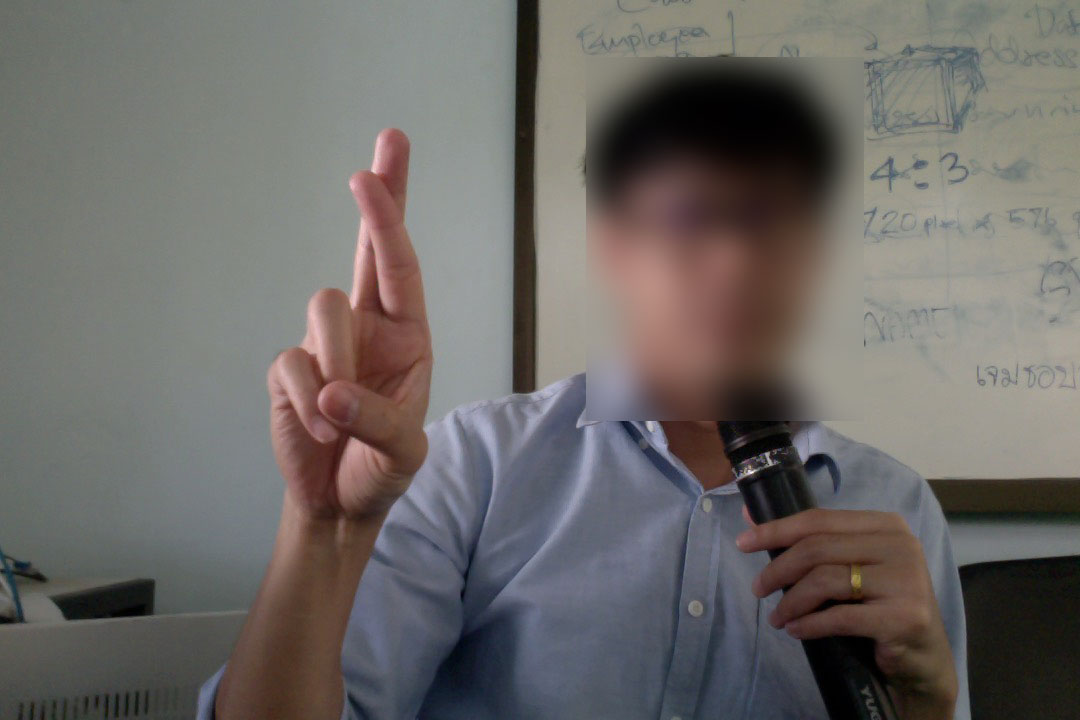rao: (260, 109, 447, 529)
